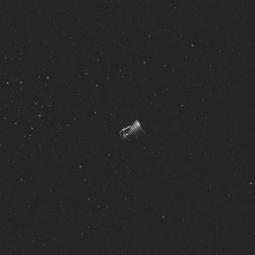debris: (114, 116, 149, 147)
